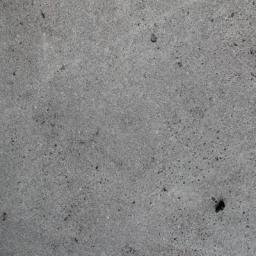FOD: (215, 197, 228, 216)
